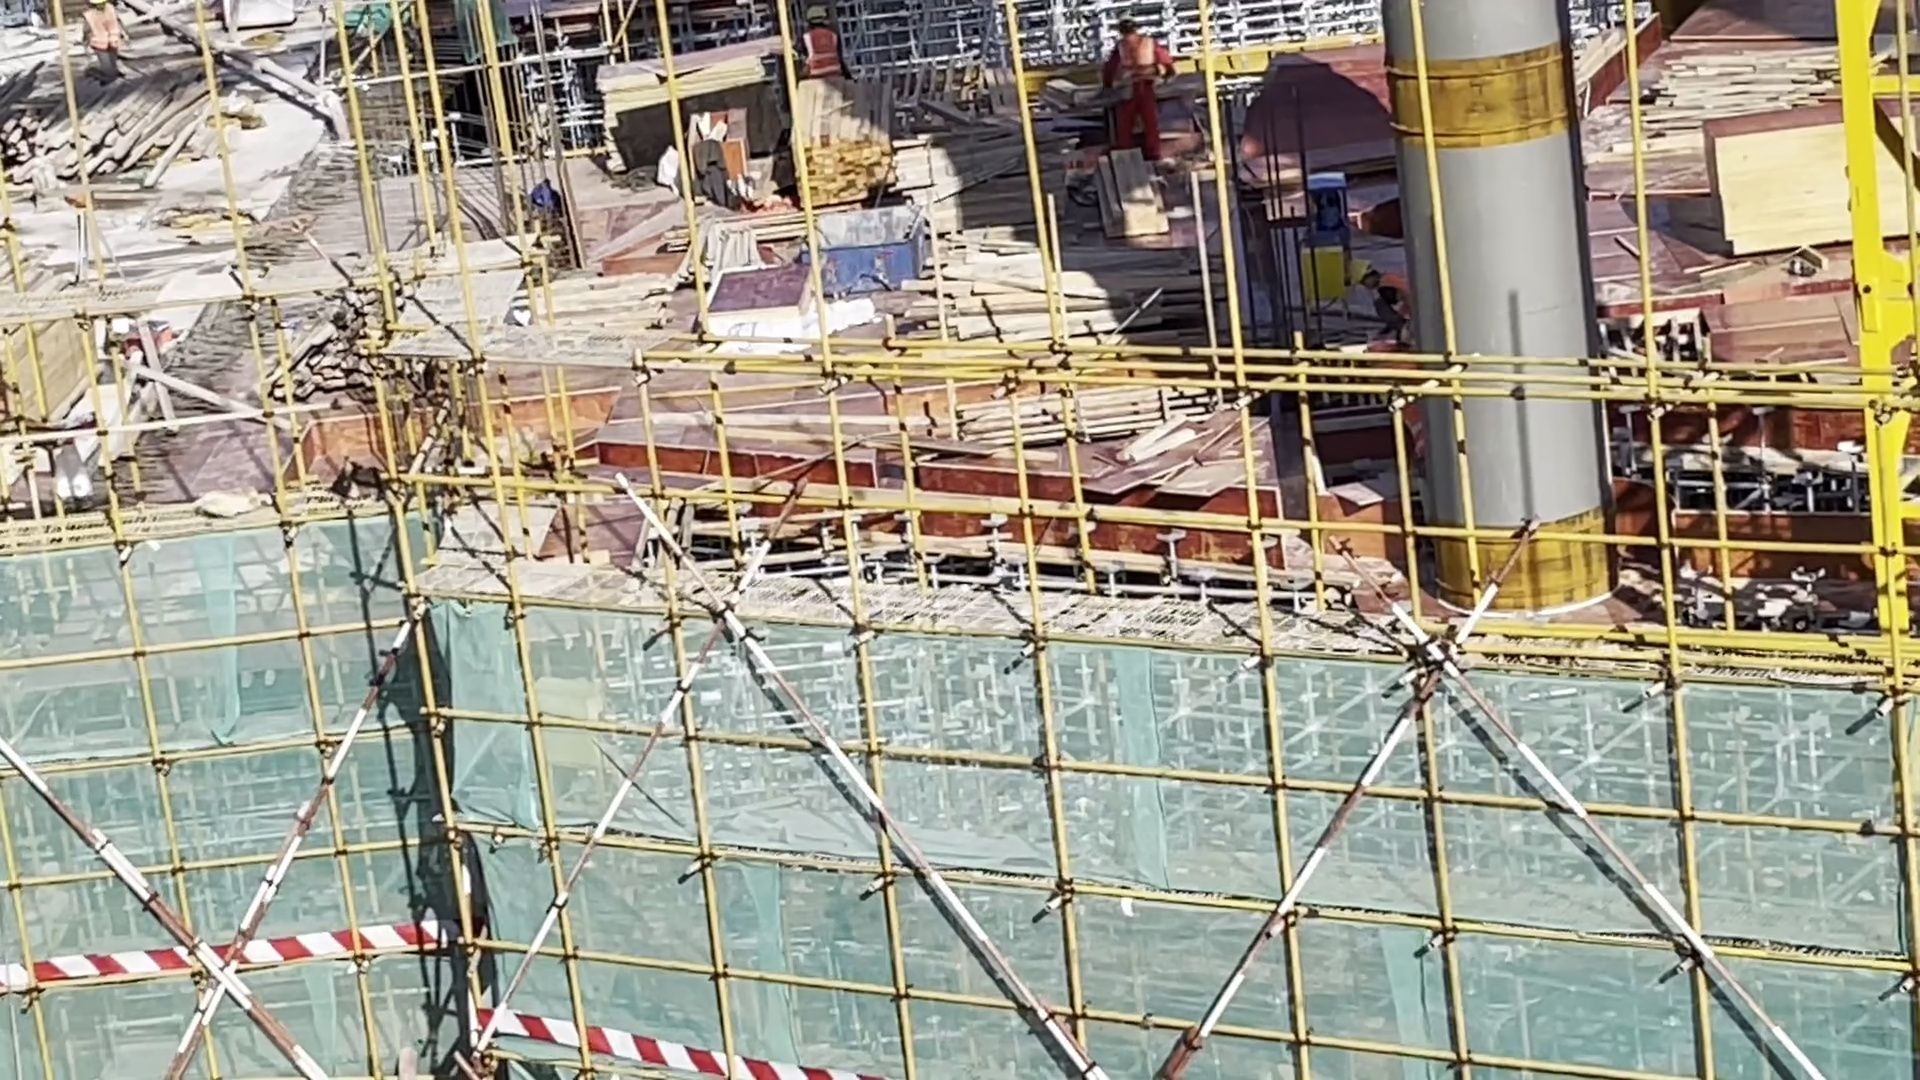board: (1100, 420, 1240, 504)
helmet: (1345, 255, 1380, 297), (1114, 13, 1144, 43), (800, 5, 835, 28)
hopper: (801, 215, 926, 301)
person: (1098, 11, 1176, 162), (1340, 250, 1424, 348)
vest: (1116, 42, 1160, 128), (799, 30, 837, 77), (1381, 275, 1409, 322)
wood: (903, 237, 1219, 371), (11, 74, 181, 215), (1665, 35, 1860, 133), (786, 105, 906, 220)
